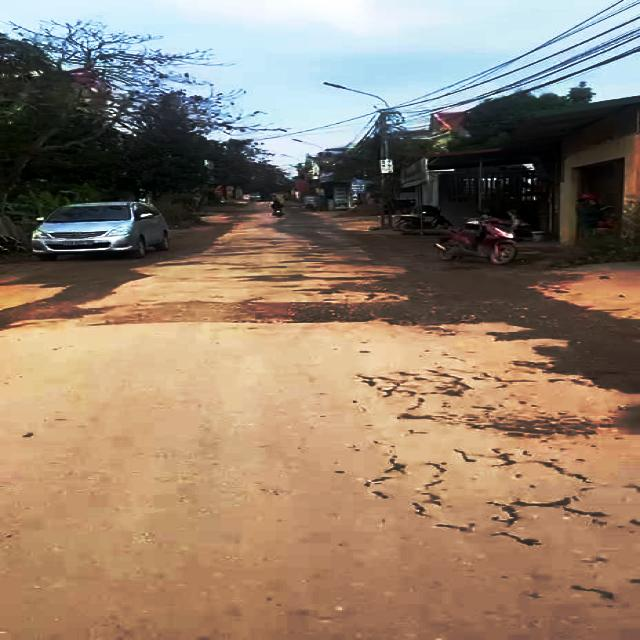pothole: (141, 294, 517, 323), (0, 263, 138, 332), (494, 329, 640, 393)
